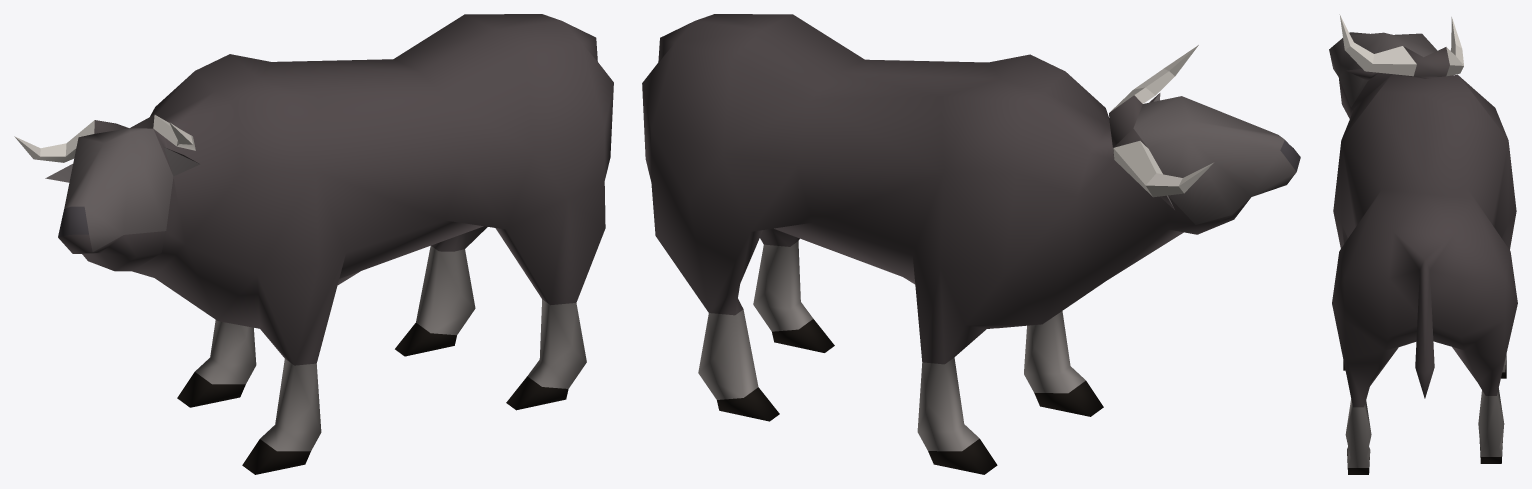
Rendered from animals-bull-ver-027.glb.
The picture shows the model from 3 angles, left to right: view 1: azimuth 30°, elevation 25°; view 2: azimuth 150°, elevation 25°; view 3: azimuth 270°, elevation 25°; orthographic projection. The views are drawn at different scales.
Parts seen in each view (by area): view 1: Bull-ver3; view 2: Bull-ver3; view 3: Bull-ver3.
Boxes of the visible parts, x1,y1,x2,y2 form: Bull-ver3: (14, 14, 613, 474); Bull-ver3: (642, 14, 1300, 474); Bull-ver3: (1329, 14, 1517, 474).
Size of the model in its own units: 2.31 by 1.41 by 0.7956.
Materials: 1 (1 with a texture image).
